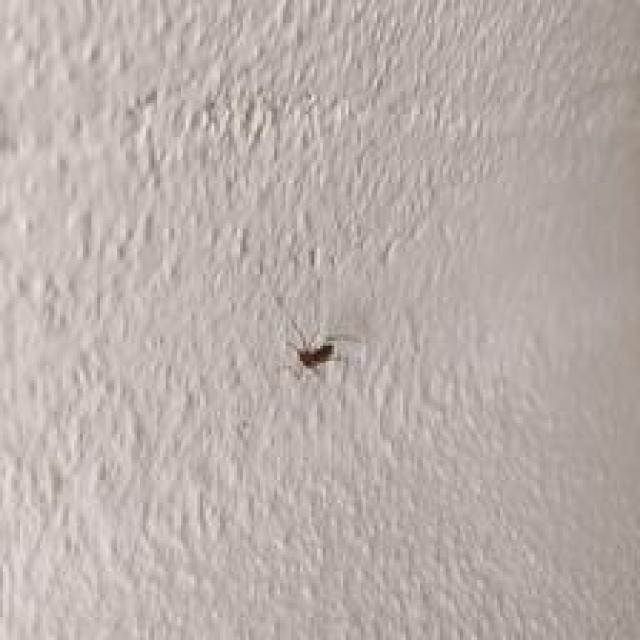Culex: (287, 337, 336, 372)
